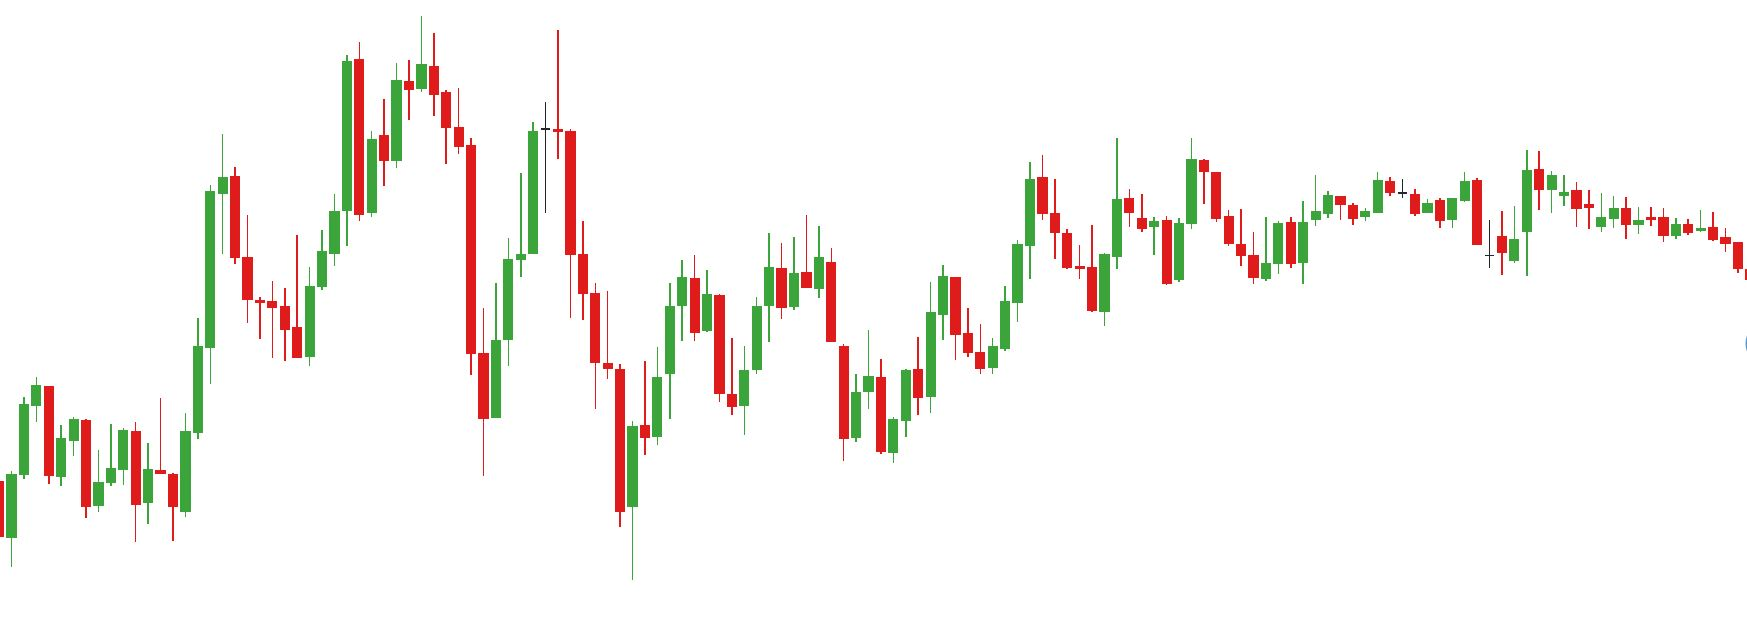buy: (479, 274, 641, 587), (726, 300, 862, 465)
